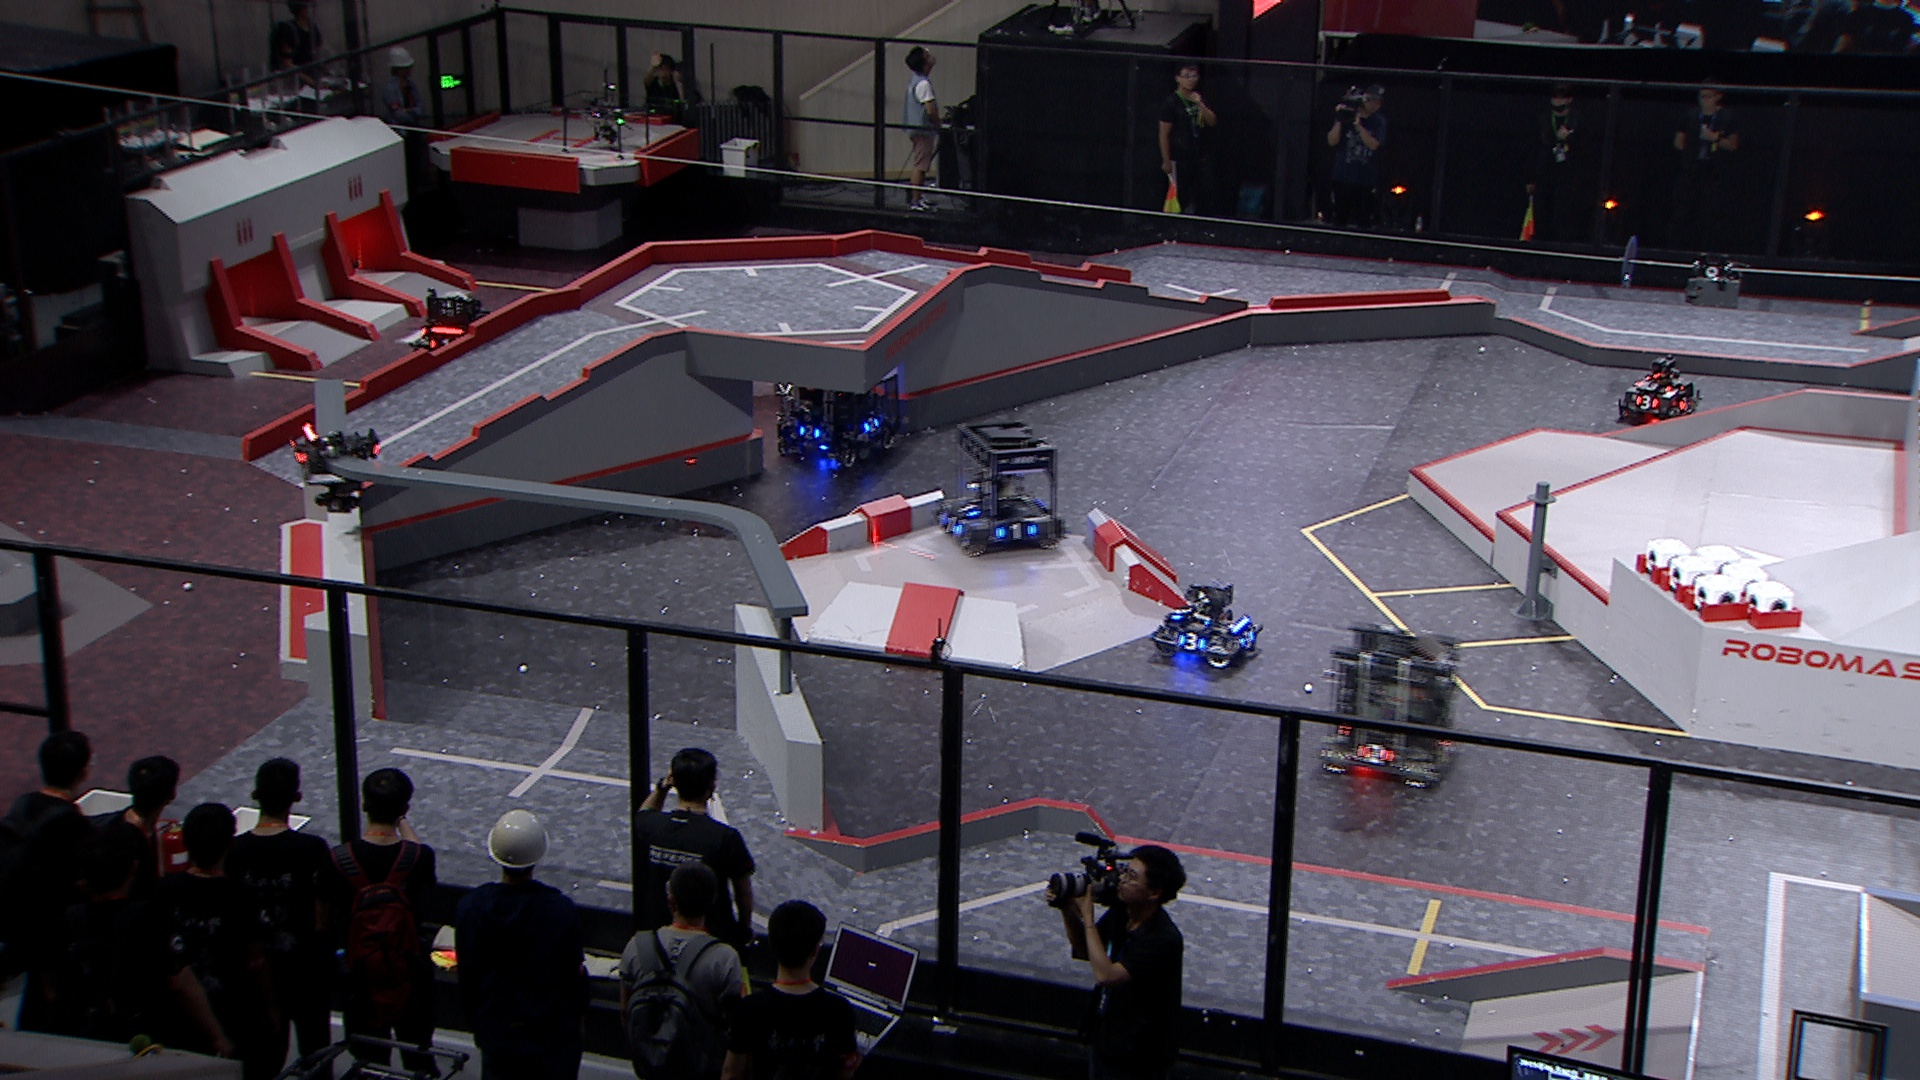armor: (1360, 742, 1396, 764), (940, 512, 964, 541), (996, 524, 1034, 541), (1176, 632, 1205, 651), (796, 425, 822, 440), (955, 500, 975, 520), (429, 334, 451, 351), (1640, 378, 1669, 392), (1240, 629, 1257, 650), (1171, 605, 1192, 622), (864, 415, 882, 433), (1636, 394, 1658, 409), (1679, 394, 1692, 410)
car: (1313, 618, 1466, 793), (934, 419, 1069, 555), (773, 348, 906, 472), (1150, 582, 1263, 671), (410, 285, 495, 367), (1619, 353, 1706, 433)
watcher: (285, 419, 385, 514)
